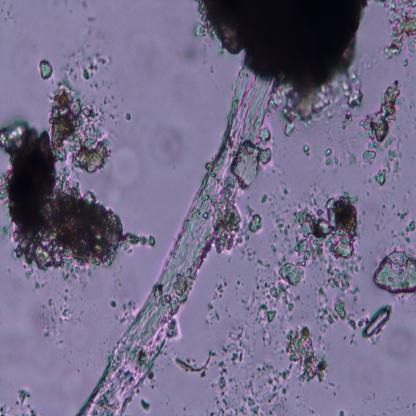Background material: (0, 88, 141, 273), (196, 0, 368, 85), (218, 317, 288, 413), (290, 188, 360, 262), (356, 79, 402, 166), (56, 43, 113, 98), (28, 289, 76, 348), (286, 324, 328, 386), (149, 113, 193, 172), (318, 260, 364, 312), (265, 265, 303, 324), (374, 249, 416, 296), (383, 1, 416, 59), (198, 272, 231, 328), (232, 226, 269, 270), (262, 186, 290, 241), (360, 303, 394, 340), (380, 192, 412, 226), (176, 37, 205, 73), (0, 389, 38, 416), (176, 352, 215, 371), (388, 330, 411, 361), (0, 0, 22, 27), (322, 301, 347, 323), (121, 300, 136, 326), (38, 58, 54, 81), (402, 221, 416, 242), (324, 148, 339, 164), (251, 214, 263, 234), (137, 400, 152, 414), (376, 166, 386, 186), (284, 119, 295, 137), (303, 144, 311, 155), (338, 407, 346, 416), (111, 302, 121, 307)
Cotton: (75, 69, 282, 415)
